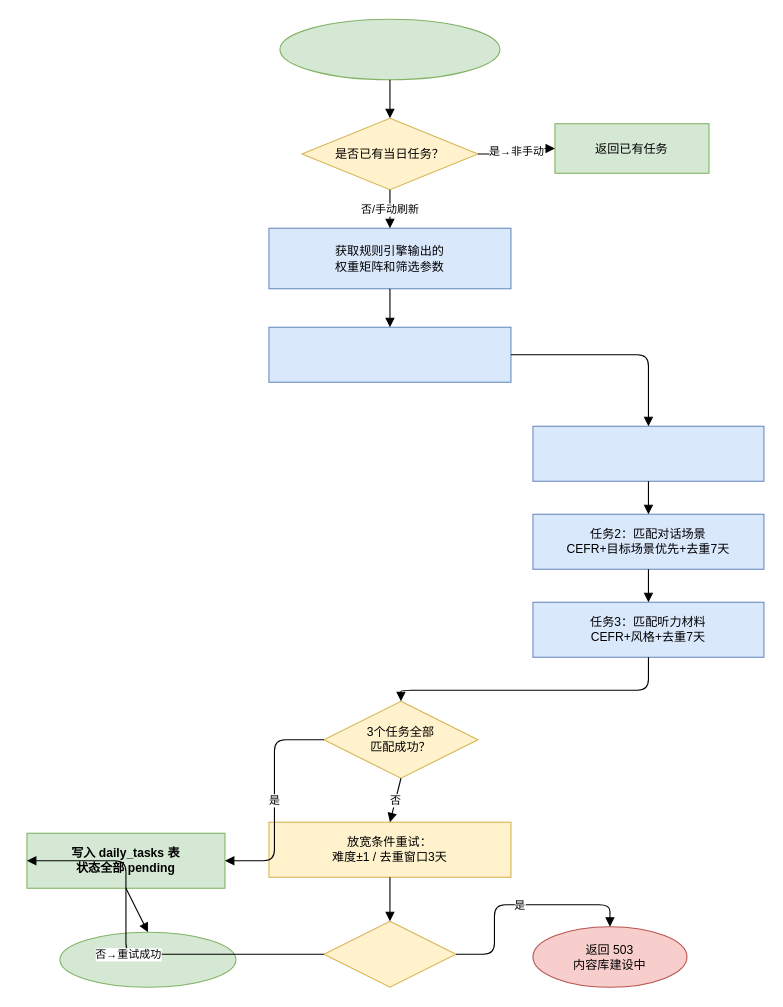
Some shapes in this 783 by 1007 pixel diagram are drawn without their labels. Each missing label, with the centre of its shape:
"仍然失败？" goes at [389,953].
"任务1：匹配跟读内容 CEFR+风格+兴趣+去重7天" goes at [648,453].
"确定有效 CEFR 等级 (cefr + difficulty_adjustment)" goes at [389,354].
"触发任务生成 (首次登录/测评完成/手动刷新)" goes at [389,49].
"返回任务列表给前端" goes at [147,959].
